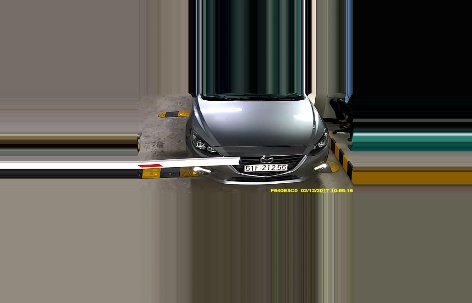plate: (239, 159, 288, 174)
